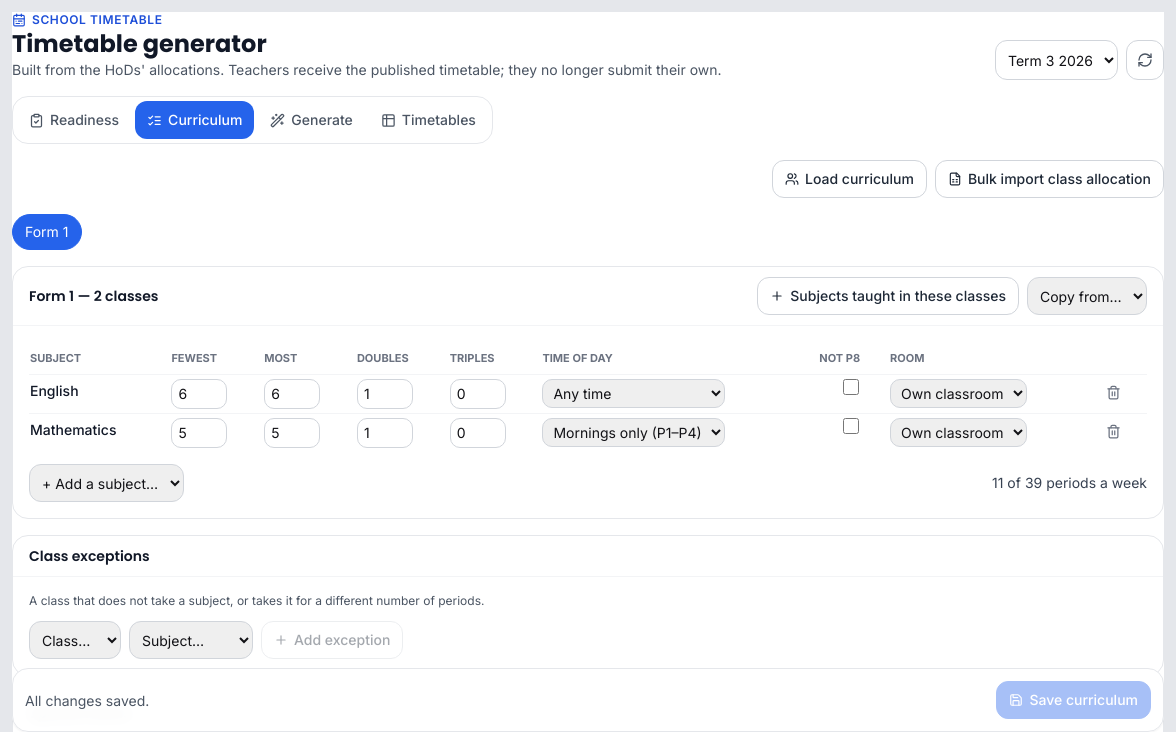
Timetable generator (admin) › curriculum: add a subject to a level and save
Expected: the tab "Form 1" is shown, [12, 214, 82, 250]
Select "History" in the dropdown named "Add a subject" at {"x": 106, "y": 483}, box [29, 464, 184, 502]
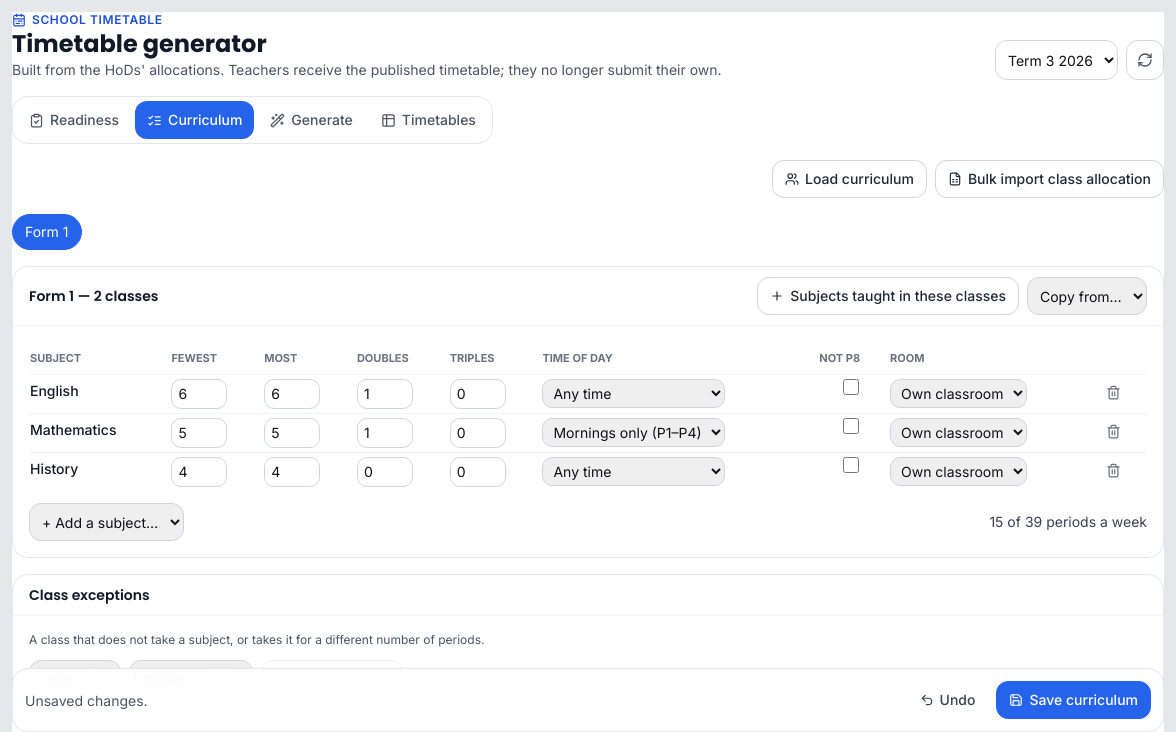
Replace the text in the number field named "History min" with "3" at {"x": 199, "y": 472}, box [171, 457, 227, 487]
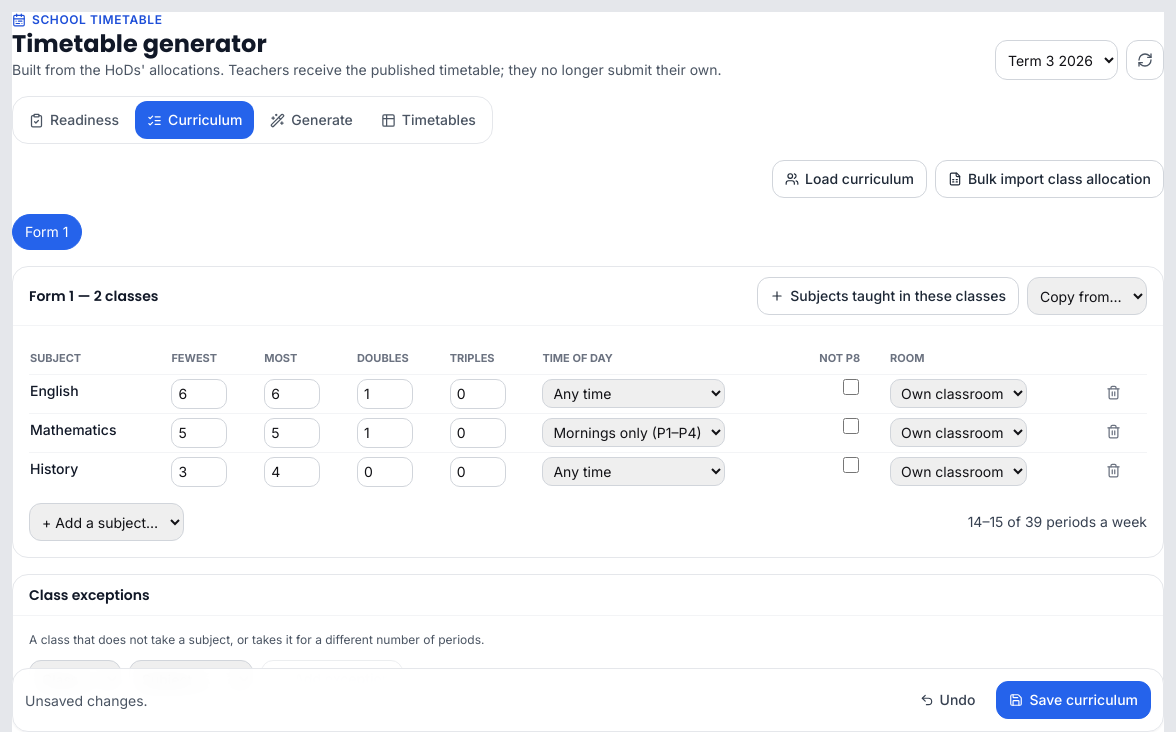
Click the button "Save curriculum" at {"x": 1074, "y": 700}, box [996, 681, 1151, 719]
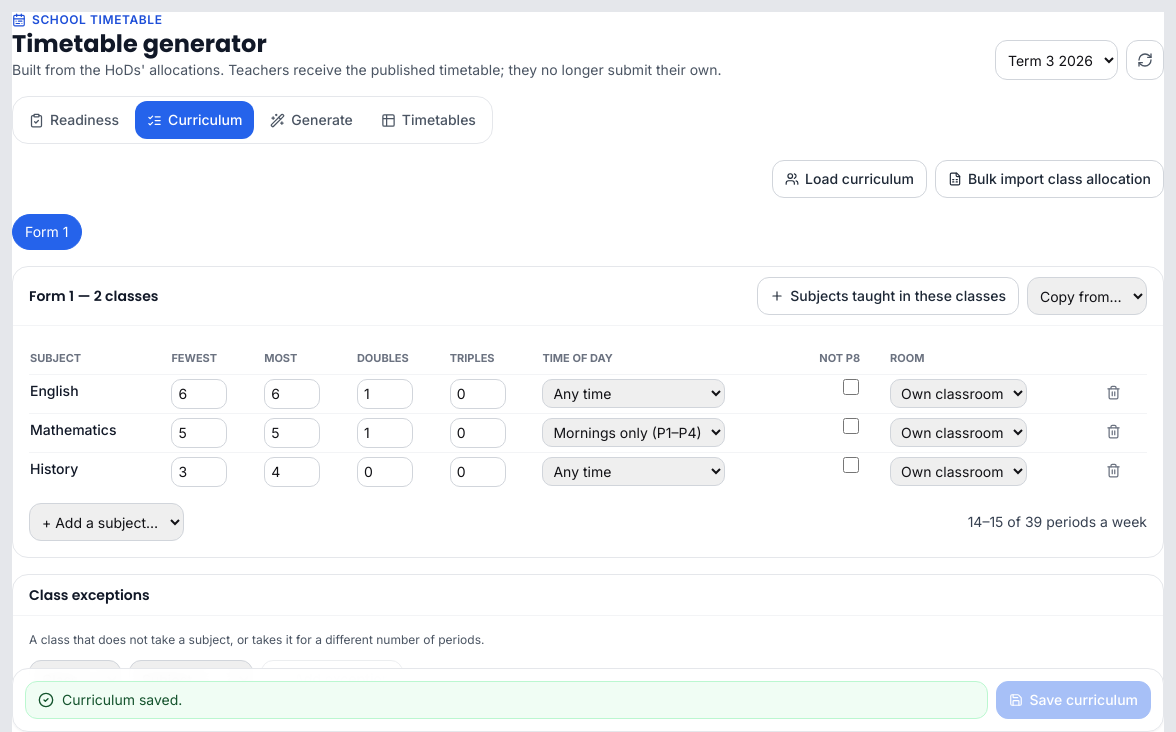
Now the text "Curriculum saved." is shown, box [62, 691, 182, 708]
